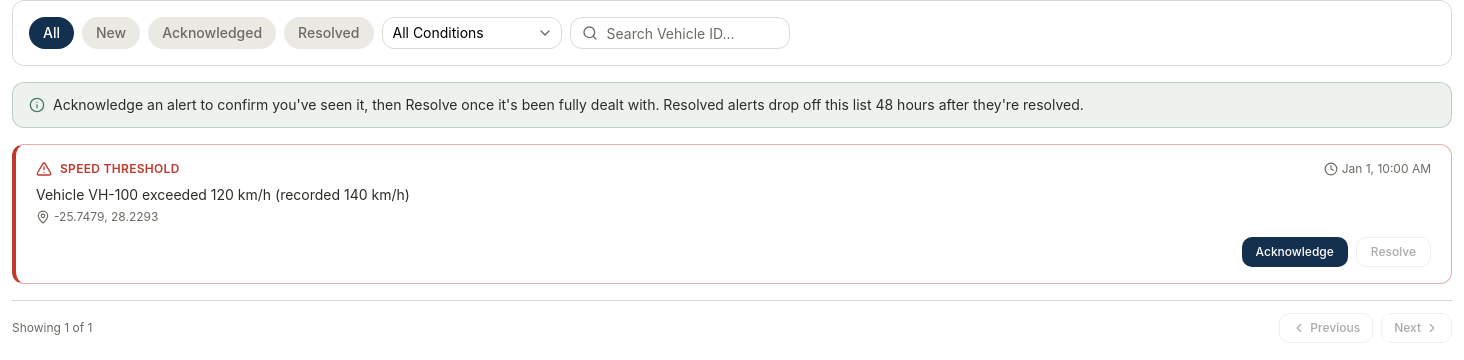
Test case: TriggeredAlertsTab › disables both action buttons on the alert being actioned while in flight
Step 1. Click the button "Acknowledge" → (1295, 252), box [1242, 237, 1348, 267]
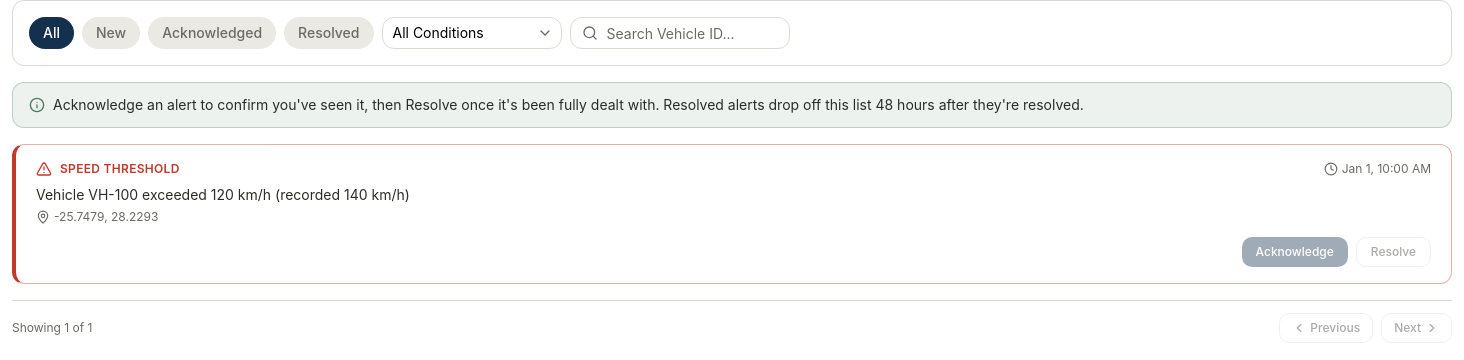
Expected: the button "Resolve" is disabled, [1356, 237, 1431, 267]
Now the button "Acknowledge" is disabled, box [1242, 237, 1348, 267]
